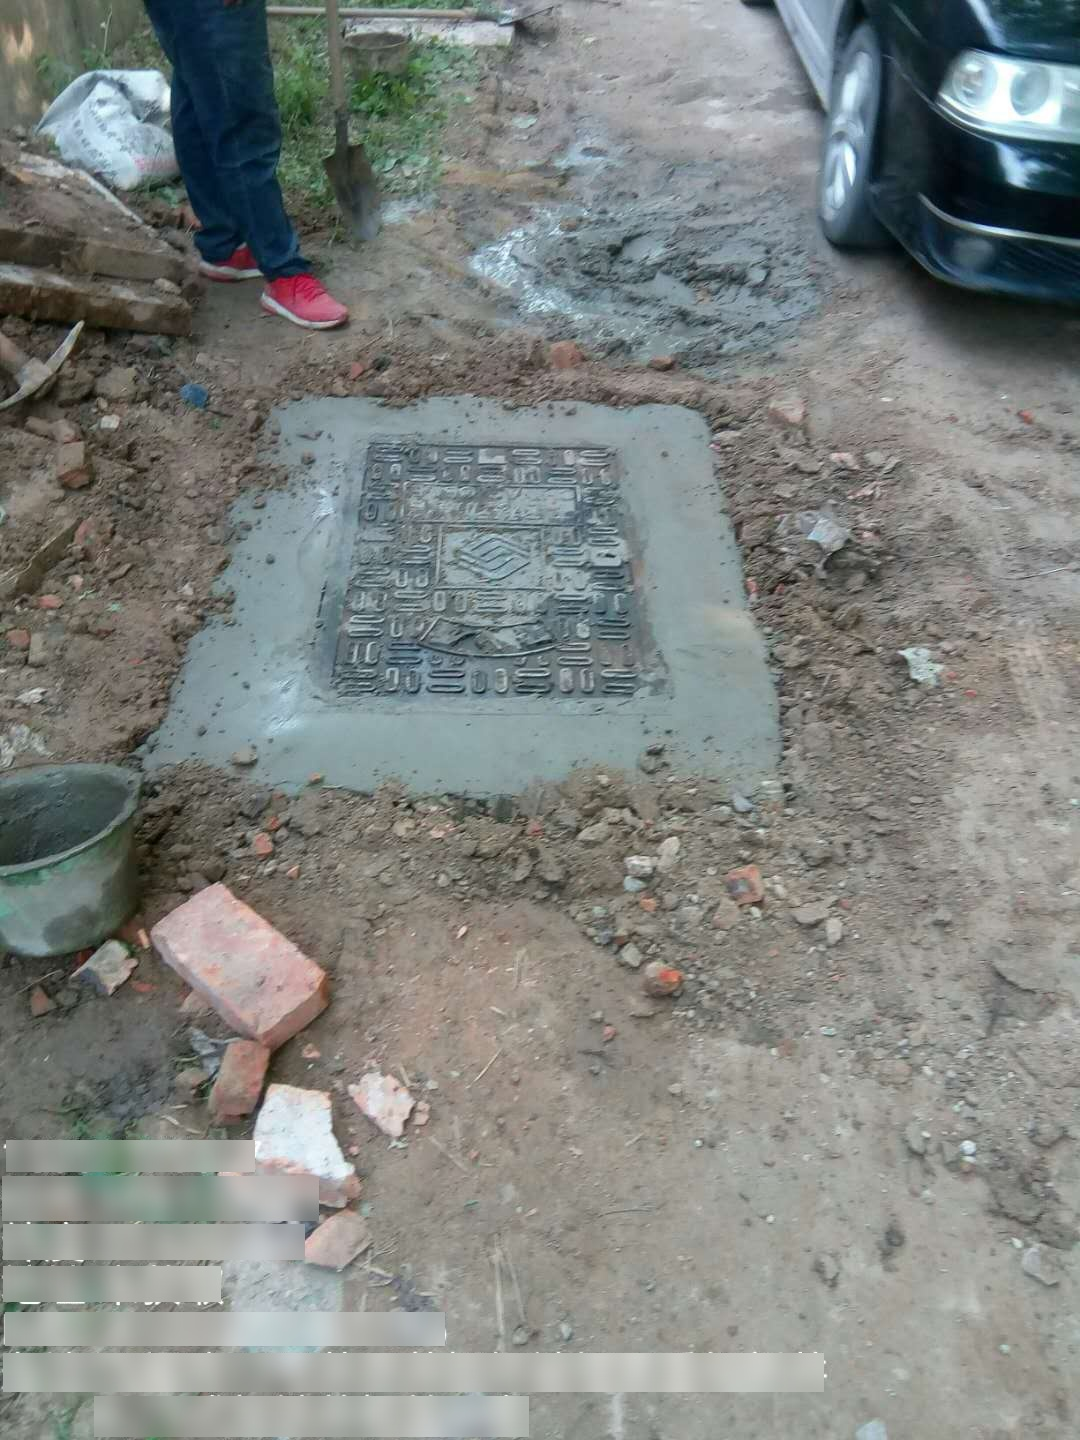good: (309, 433, 669, 717)
